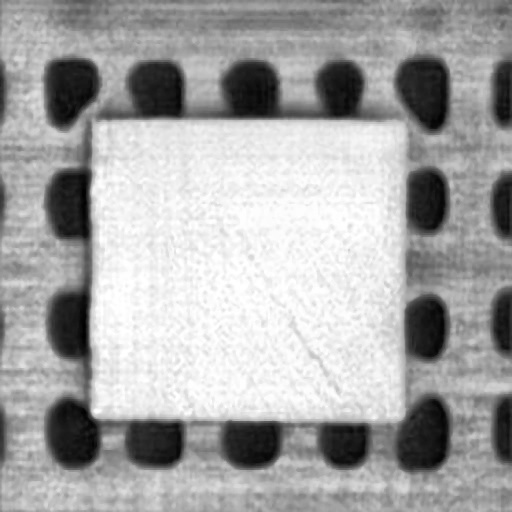DIE_CRACK: (276, 301, 339, 397)
